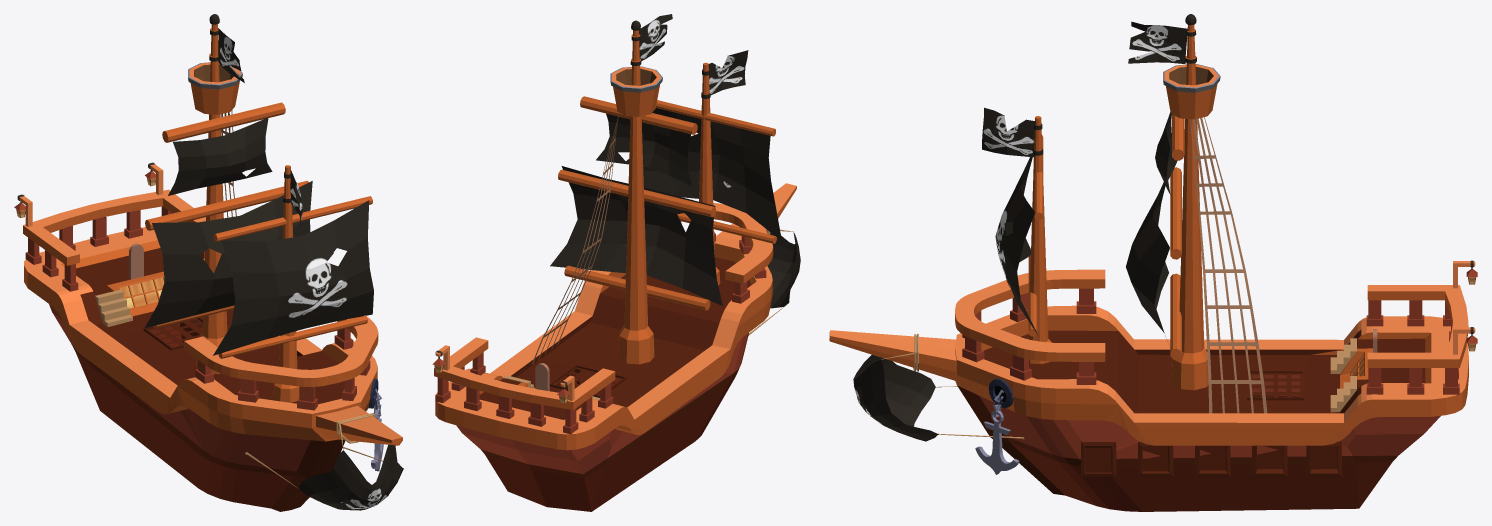
Rendered from ship.fbx.
3 views of the same model, side by side, from view 1: azimuth 30°, elevation 25°; view 2: azimuth 150°, elevation 25°; view 3: azimuth 270°, elevation 25° (orthographic). The views are drawn at different scales.
Parts seen in each view (by area): view 1: ship; view 2: ship; view 3: ship.
Boxes of the visible parts, box(x1,y1,x2,y2) form: ship: box(14, 14, 403, 511); ship: box(432, 14, 800, 511); ship: box(829, 14, 1477, 511).
Size of the model in its own units: 287 by 696 by 865.
Materials: 1 (1 with a texture image).
